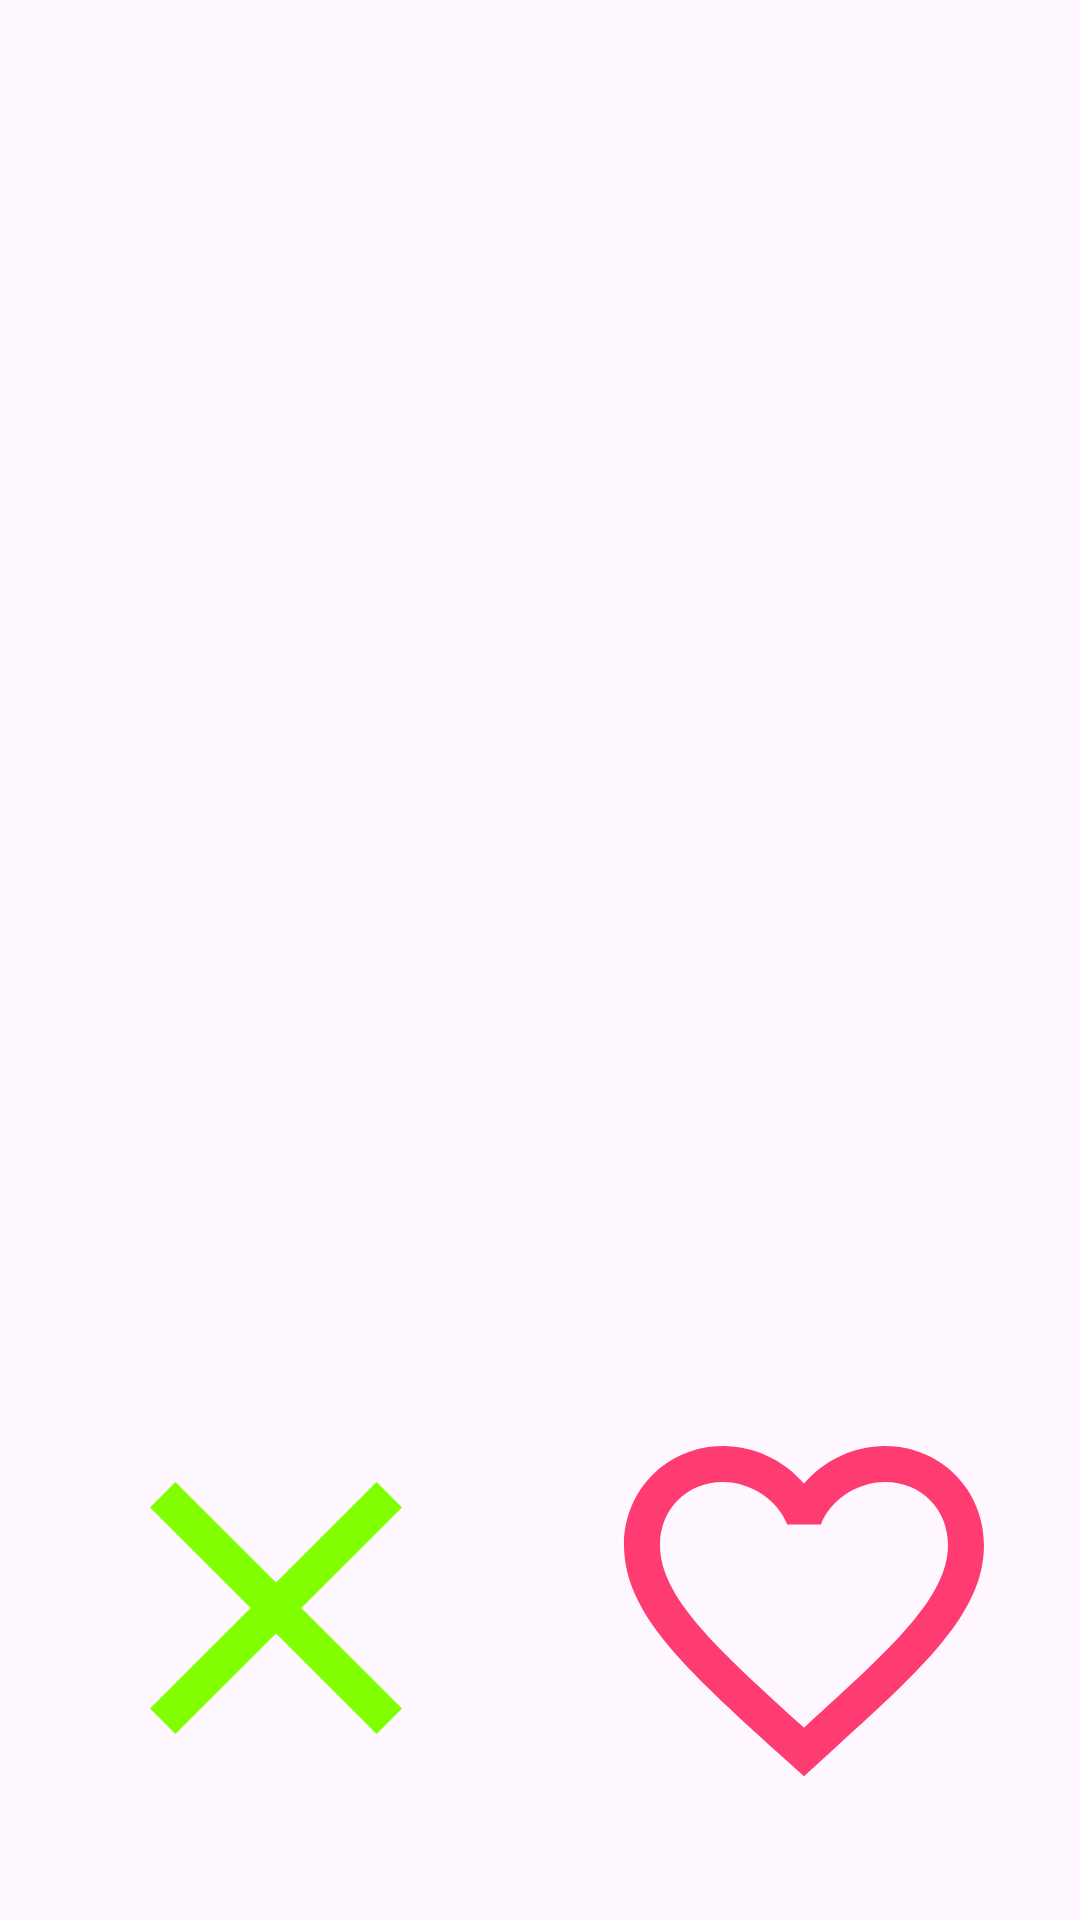

Icon bounding boxes for this 1080w x 1920h phone screenshot, format {"x1": x1, "y1": y1, "x2": x2, "y2": y2}:
close: {"x1": 150, "y1": 1482, "x2": 402, "y2": 1734}
favorite border: {"x1": 624, "y1": 1446, "x2": 984, "y2": 1776}
